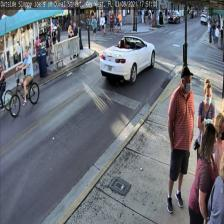person: (166, 64, 194, 212), (188, 123, 217, 223), (196, 78, 216, 185), (212, 113, 224, 209)
